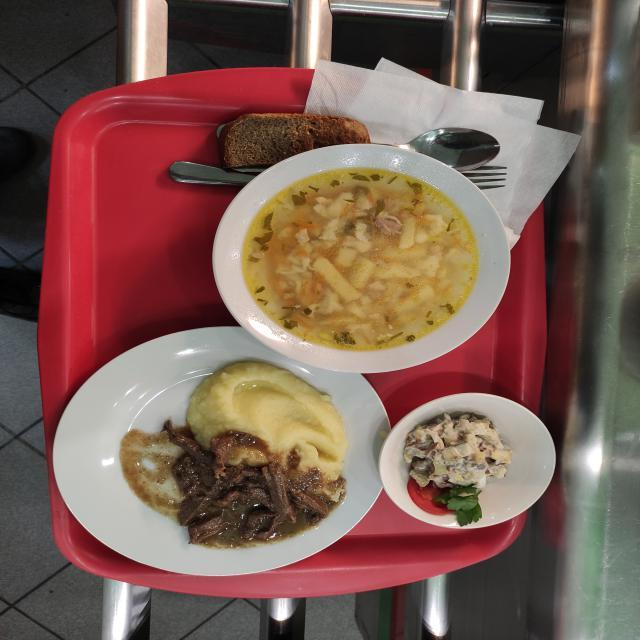plate: (52, 325, 392, 579), (212, 142, 514, 376), (378, 392, 558, 532), (218, 111, 370, 170)
